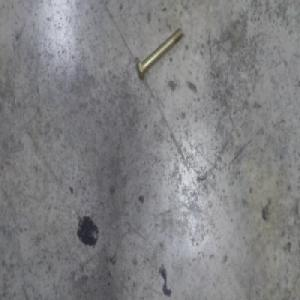Bolt: (135, 26, 184, 80)
